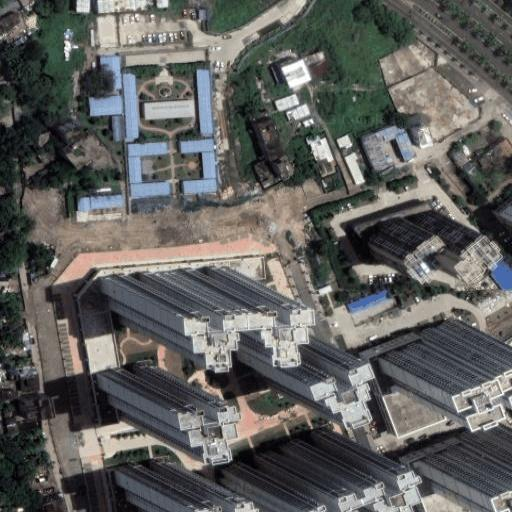building: (79, 258, 266, 424), (222, 427, 339, 512), (100, 267, 231, 329), (368, 337, 444, 437), (407, 441, 512, 512), (379, 321, 475, 393), (413, 428, 510, 498), (227, 320, 291, 386), (95, 363, 159, 421), (113, 460, 176, 512), (352, 202, 432, 242), (370, 37, 428, 90), (397, 210, 449, 259), (365, 214, 410, 264), (120, 46, 207, 69), (63, 129, 106, 171), (469, 133, 512, 175), (375, 121, 416, 161), (347, 285, 396, 315), (361, 133, 391, 174), (108, 470, 137, 512), (484, 253, 512, 291), (16, 150, 51, 180), (123, 73, 139, 138), (144, 100, 194, 120), (275, 56, 306, 88), (198, 70, 213, 135), (4, 410, 40, 434), (302, 50, 331, 79), (491, 192, 511, 232), (77, 195, 123, 210), (17, 391, 48, 413), (89, 96, 122, 116), (102, 57, 121, 90), (97, 0, 145, 13), (310, 138, 333, 165), (344, 153, 364, 184), (8, 359, 36, 380), (130, 182, 170, 196), (0, 12, 23, 35), (183, 179, 217, 194), (128, 142, 167, 155), (57, 118, 80, 140), (264, 137, 285, 161), (41, 493, 67, 512), (258, 119, 279, 142), (181, 138, 214, 152), (285, 103, 309, 122), (277, 155, 296, 179), (275, 95, 299, 112), (203, 150, 216, 180), (254, 160, 271, 182), (409, 123, 426, 145), (129, 155, 142, 183), (18, 328, 31, 350), (112, 116, 123, 140), (20, 377, 38, 391), (403, 115, 422, 127), (271, 65, 282, 84), (337, 135, 353, 147), (76, 0, 89, 12), (156, 0, 167, 8), (199, 9, 207, 20), (0, 359, 5, 376)
